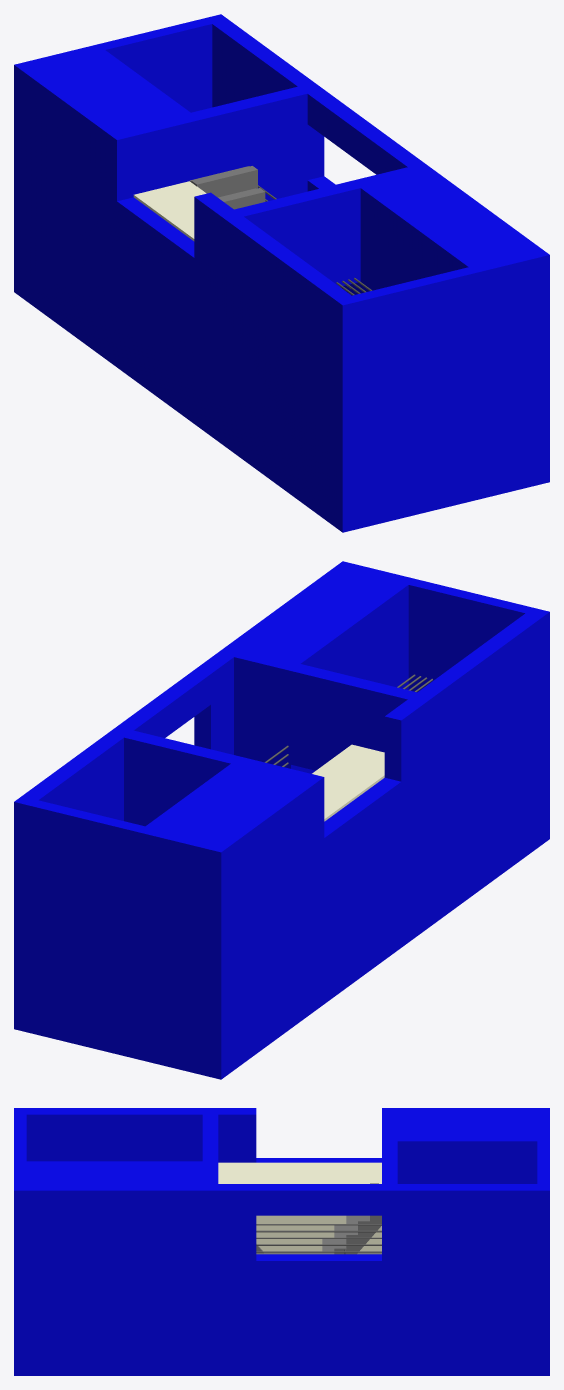
File: лестницасограждениями.obj
The picture shows the model from 3 angles, top to bottom: view 1: azimuth 30°, elevation 25°; view 2: azimuth 150°, elevation 25°; view 3: azimuth 270°, elevation 25°; orthographic projection. The views are drawn at different scales.
Size of the model in its own units: 3.1 by 3.25 by 8.52.
